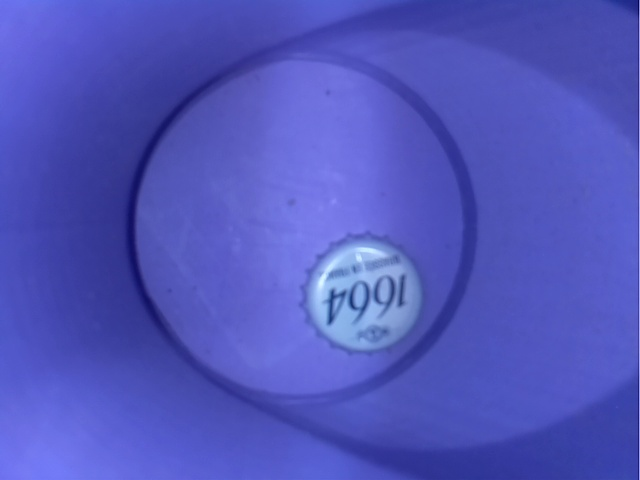capsule: (280, 224, 442, 375)
